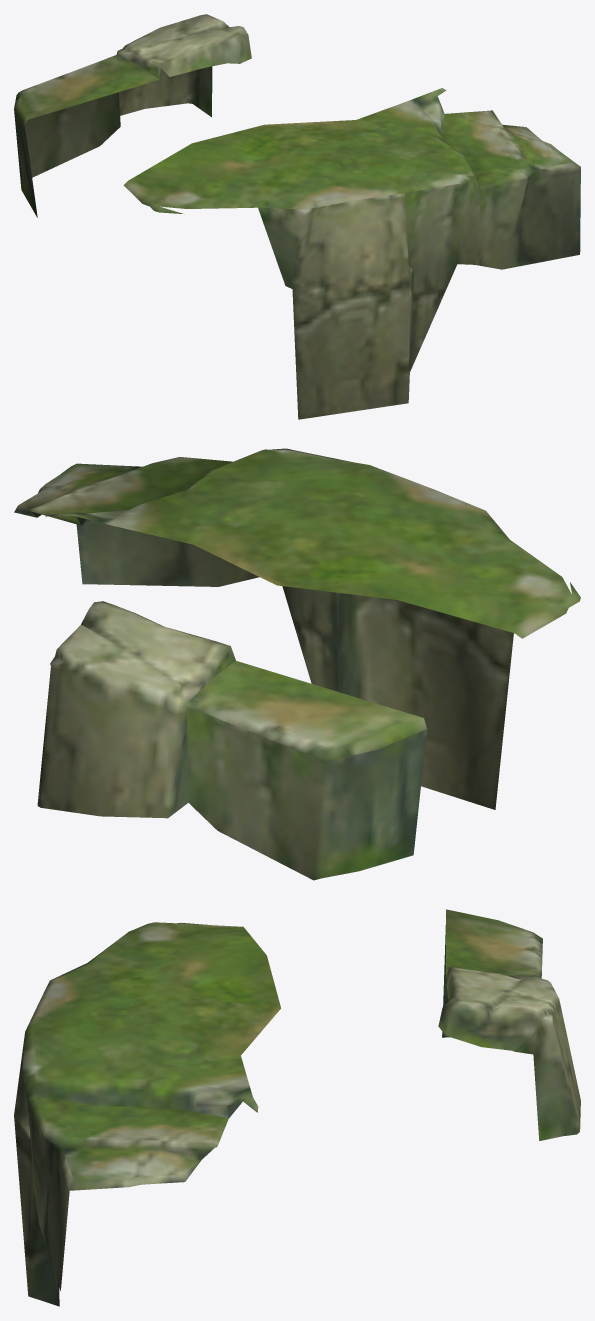
Rendered from S_Rock_Green054_1060_8.fbx.
The picture shows the model from 3 angles, top to bottom: view 1: azimuth 30°, elevation 25°; view 2: azimuth 150°, elevation 25°; view 3: azimuth 270°, elevation 25°; orthographic projection. The views are drawn at different scales.
Visible parts, largest first — view 1: S_Rock_Green054_1060_8; view 2: S_Rock_Green054_1060_8; view 3: S_Rock_Green054_1060_8.
Boxes of the visible parts, left/top/right/bottom form: S_Rock_Green054_1060_8: left=14, top=14, right=580, bottom=419; S_Rock_Green054_1060_8: left=14, top=448, right=580, bottom=880; S_Rock_Green054_1060_8: left=14, top=909, right=580, bottom=1306.
Size of the model in its own units: 1605 by 955 by 1587.
1 material, 1 textured.
